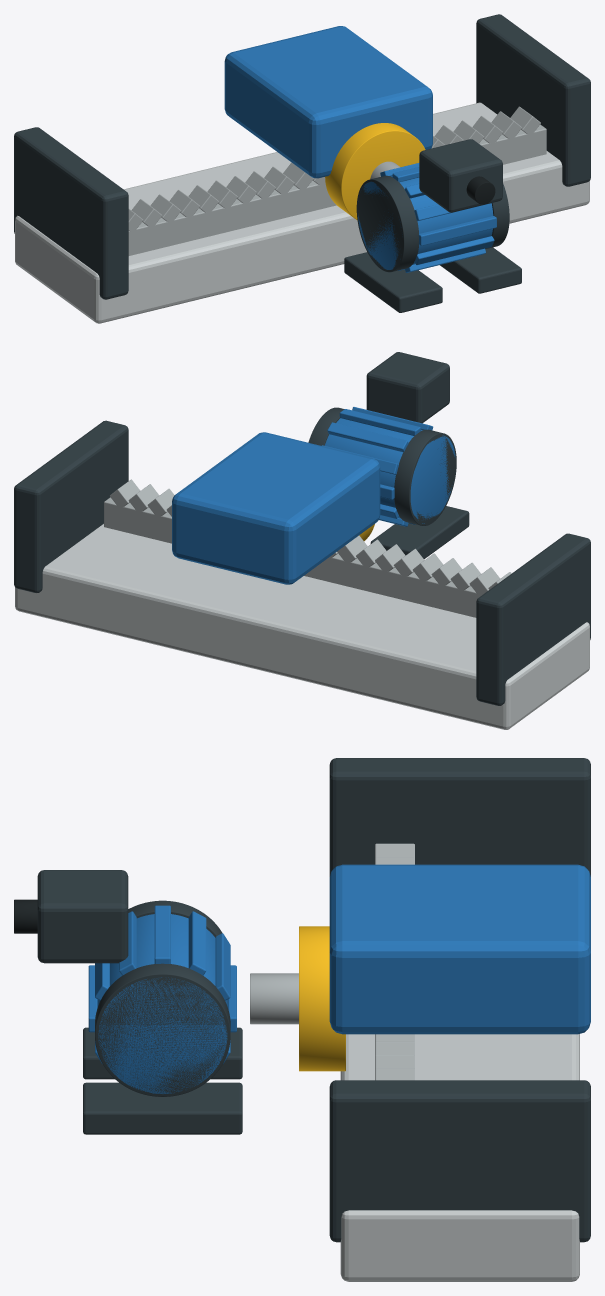
Rendered from rack_pinion_linear_actuator.glb.
The picture shows the model from 3 angles, top to bottom: view 1: azimuth 30°, elevation 25°; view 2: azimuth 150°, elevation 25°; view 3: azimuth 270°, elevation 25°; orthographic projection. The views are drawn at different scales.
Parts seen in each view (by area): view 1: BASE_EXTRUSION, KIN_CARRIAGE, END_STOP_-1.05, END_STOP_1.05, RACK, PINION_COVER, DRIVE_MOTOR_terminal_box, DRIVE_MOTOR_endbell_-0.08499999999999999, DRIVE_MOTOR_frame, DRIVE_MOTOR_foot_-0.18, DRIVE_MOTOR_foot_0.18, DRIVE_MOTOR_fin_180 (+16 smaller); view 2: BASE_EXTRUSION, KIN_CARRIAGE, END_STOP_-1.05, END_STOP_1.05, RACK, DRIVE_MOTOR_terminal_box, DRIVE_MOTOR_frame, DRIVE_MOTOR_endbell_-0.08499999999999999, DRIVE_MOTOR_foot_-0.18, DRIVE_MOTOR_fin_60, DRIVE_MOTOR_fin_90, DRIVE_MOTOR_endbell_0.32499999999999996; view 3: KIN_CARRIAGE, END_STOP_1.05, END_STOP_-1.05, BASE_EXTRUSION, DRIVE_MOTOR_frame, DRIVE_MOTOR_endbell_0.32499999999999996, DRIVE_MOTOR_terminal_box, DRIVE_MOTOR_foot_0.18, PINION_COVER, KIN_PINION_SHAFT, DRIVE_MOTOR_foot_-0.18, DRIVE_MOTOR_fin_60 (+4 smaller).
Part boxes in pixels (box(x1,y1,x2,y2)): BASE_EXTRUSION: box(15, 102, 589, 323); KIN_CARRIAGE: box(224, 26, 432, 178); END_STOP_-1.05: box(14, 127, 128, 299); END_STOP_1.05: box(476, 14, 590, 186); RACK: box(128, 124, 546, 255); PINION_COVER: box(325, 123, 425, 220); DRIVE_MOTOR_terminal_box: box(419, 139, 502, 212); DRIVE_MOTOR_endbell_-0.08499999999999999: box(356, 175, 418, 272); DRIVE_MOTOR_frame: box(358, 176, 493, 269); DRIVE_MOTOR_foot_-0.18: box(344, 252, 442, 312); DRIVE_MOTOR_foot_0.18: box(440, 247, 521, 293); DRIVE_MOTOR_fin_180: box(418, 216, 496, 245); BASE_EXTRUSION: box(15, 524, 589, 729); KIN_CARRIAGE: box(172, 432, 380, 584); END_STOP_-1.05: box(476, 533, 590, 705); END_STOP_1.05: box(14, 420, 128, 592); RACK: box(104, 497, 481, 617); DRIVE_MOTOR_terminal_box: box(366, 352, 449, 423); DRIVE_MOTOR_frame: box(325, 418, 455, 523); DRIVE_MOTOR_endbell_-0.08499999999999999: box(394, 429, 456, 525); DRIVE_MOTOR_foot_-0.18: box(370, 506, 469, 559); DRIVE_MOTOR_fin_60: box(327, 422, 408, 452); DRIVE_MOTOR_fin_90: box(339, 409, 420, 435); DRIVE_MOTOR_endbell_0.32499999999999996: box(308, 407, 344, 445); KIN_CARRIAGE: box(329, 864, 590, 1034); END_STOP_1.05: box(329, 1080, 590, 1242); END_STOP_-1.05: box(329, 758, 590, 876); BASE_EXTRUSION: box(340, 1034, 579, 1281); DRIVE_MOTOR_frame: box(97, 914, 227, 1093); DRIVE_MOTOR_endbell_0.32499999999999996: box(95, 963, 230, 1096); DRIVE_MOTOR_terminal_box: box(37, 870, 128, 963); DRIVE_MOTOR_foot_0.18: box(83, 1082, 242, 1134); PINION_COVER: box(299, 926, 345, 1071); KIN_PINION_SHAFT: box(250, 973, 298, 1024); DRIVE_MOTOR_foot_-0.18: box(83, 1027, 242, 1079); DRIVE_MOTOR_fin_60: box(188, 911, 206, 975).
Size of the model in its own units: 2.25 by 0.74 by 1.59.
